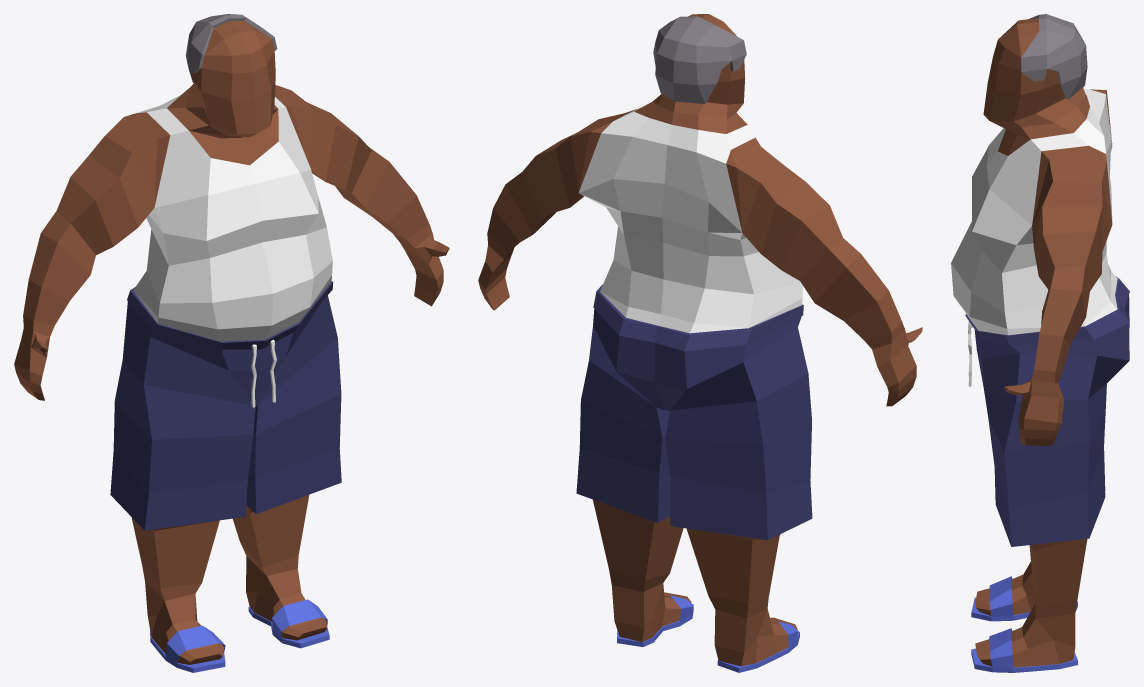
The model's file is male_03_a.fbx.
3 views of the same model, side by side, from view 1: azimuth 30°, elevation 25°; view 2: azimuth 150°, elevation 25°; view 3: azimuth 270°, elevation 25° (orthographic). The views are drawn at different scales.
Visible parts, largest first — view 1: male_03_a; view 2: male_03_a; view 3: male_03_a.
Boxes of the visible parts, x1,y1,x2,y2 form: male_03_a: (14,14,449,672); male_03_a: (478,14,922,672); male_03_a: (951,14,1129,672).
Bounding box in the file's own units: 131 × 187 × 49.
